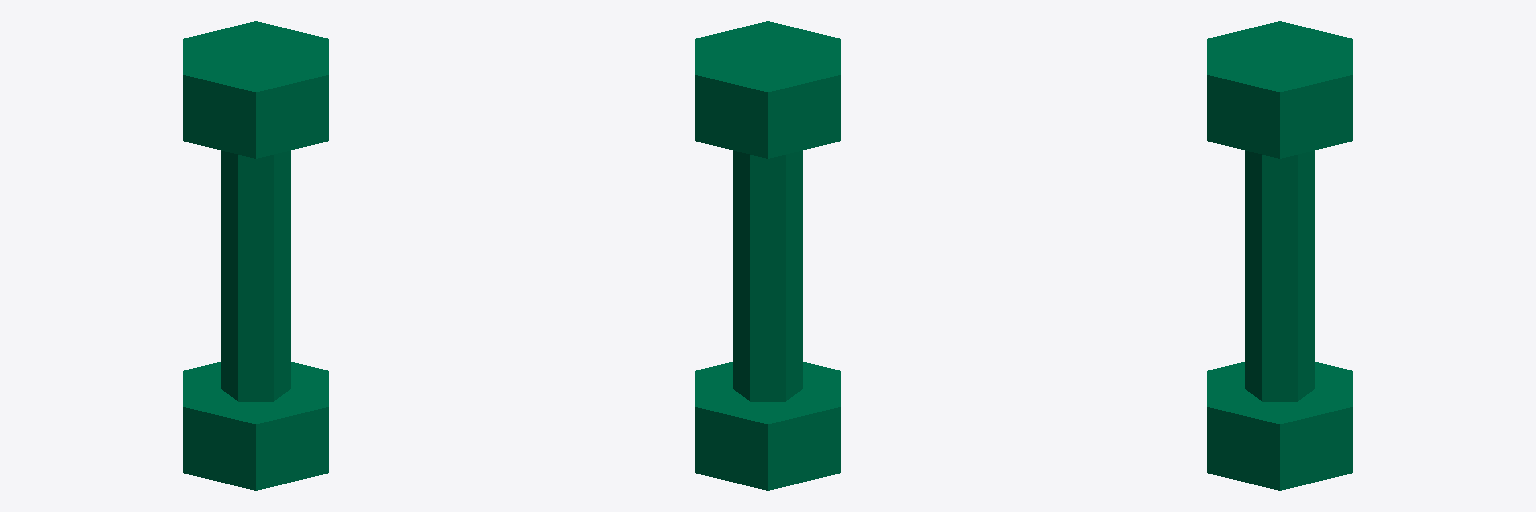
The model's file is dumbbell.obj.
3 renders of one model, left to right at view 1: azimuth 30°, elevation 25°; view 2: azimuth 150°, elevation 25°; view 3: azimuth 270°, elevation 25°, orthographic.
Parts seen in each view (by area): view 1: dumbbell; view 2: dumbbell; view 3: dumbbell.
Part boxes in pixels (bbox=[...]): dumbbell: bbox=[183, 21, 328, 490]; dumbbell: bbox=[695, 21, 840, 490]; dumbbell: bbox=[1207, 21, 1352, 490].
Bounding box in the file's own units: 0.0693 × 0.18 × 0.06.